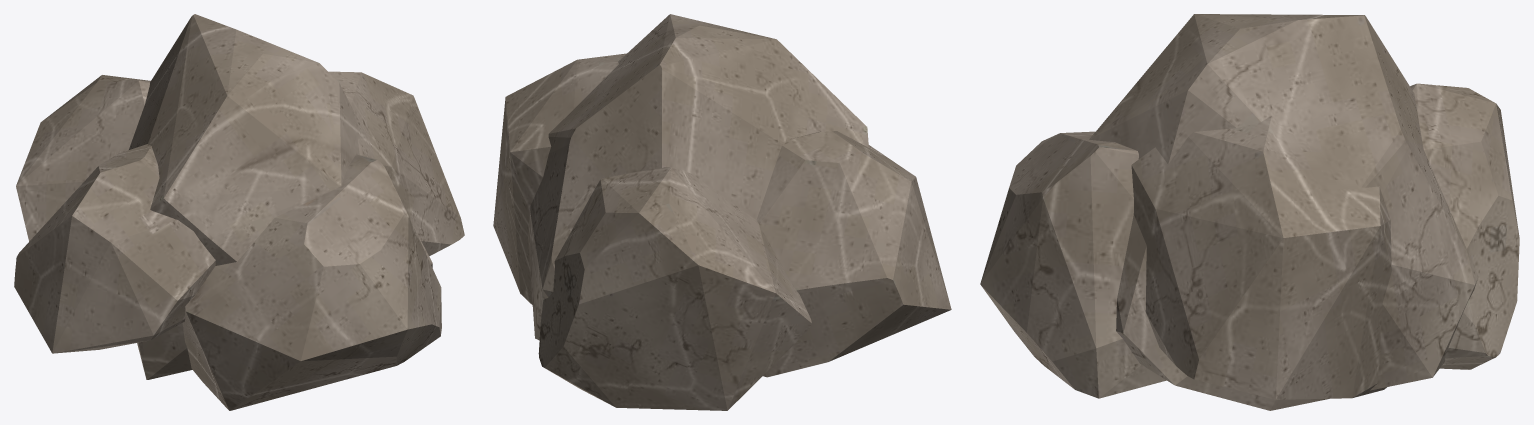
The model's file is res_stone.glb.
3 renders of one model, left to right at view 1: azimuth 30°, elevation 25°; view 2: azimuth 150°, elevation 25°; view 3: azimuth 270°, elevation 25°, orthographic. The views are drawn at different scales.
Parts seen in each view (by area): view 1: res_stone; view 2: res_stone; view 3: res_stone.
Part boxes in pixels (x1,y1,x2,y2): res_stone: (14, 14, 464, 410); res_stone: (493, 14, 951, 410); res_stone: (980, 14, 1519, 410).
Bounding box in the file's own units: 0.86 × 0.5794 × 0.8361.
Materials: 1 (1 with a texture image).
